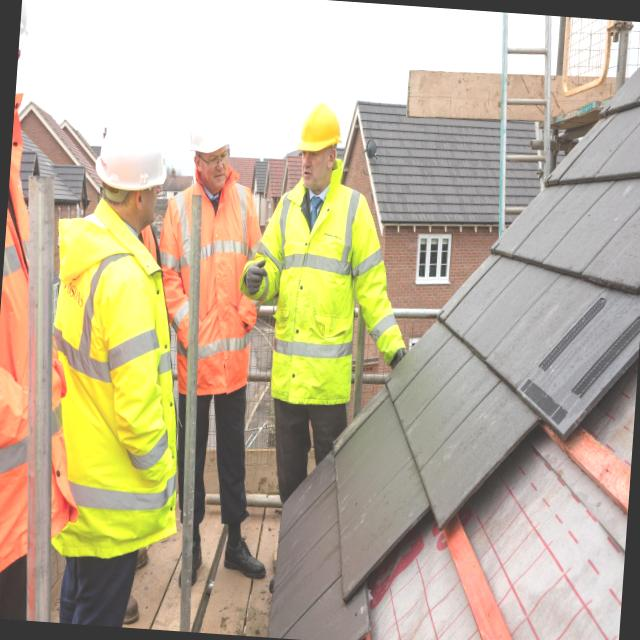helmet: (91, 118, 176, 200), (293, 102, 347, 168), (182, 105, 238, 161)
vest: (38, 226, 184, 566), (259, 181, 373, 413), (153, 187, 260, 399)
